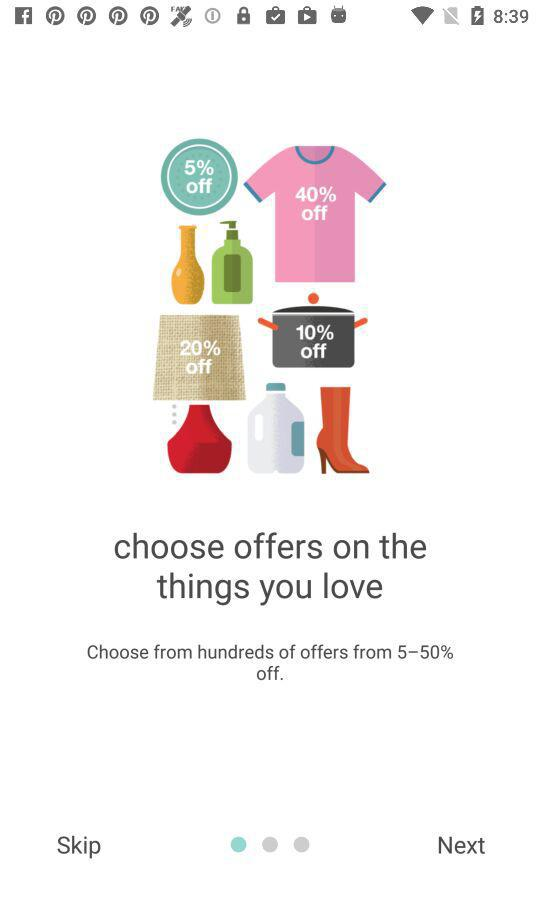Image: (152, 138, 388, 476)
PageIndicator: (230, 835, 311, 854)
Text: (114, 531, 428, 607), (87, 643, 455, 681), (57, 834, 102, 860), (438, 835, 486, 855)
UpperTaskBar: (1, 1, 540, 33)
